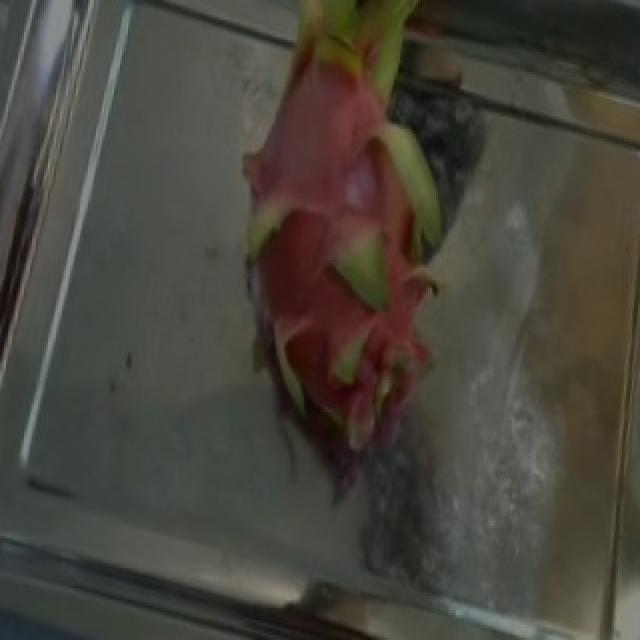fruit: (158, 2, 528, 464)
